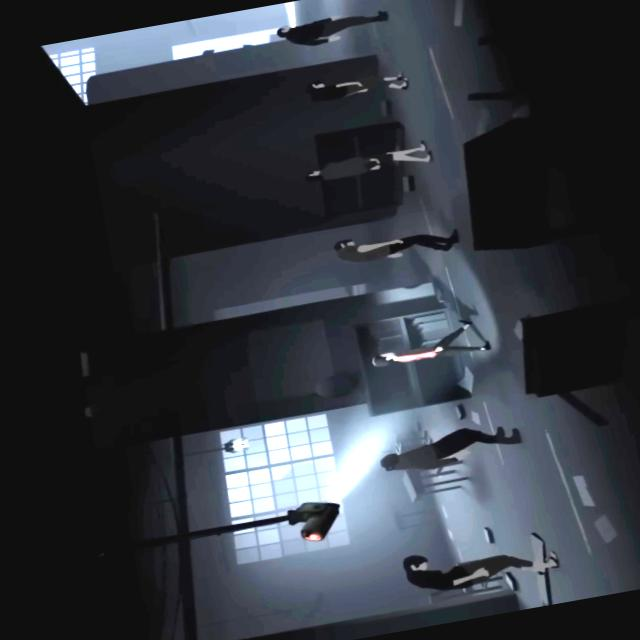boy: (368, 314, 490, 368)
zombie: (401, 530, 560, 598), (376, 418, 524, 477), (332, 218, 461, 268), (300, 138, 432, 184), (275, 7, 390, 50), (303, 64, 410, 105)
